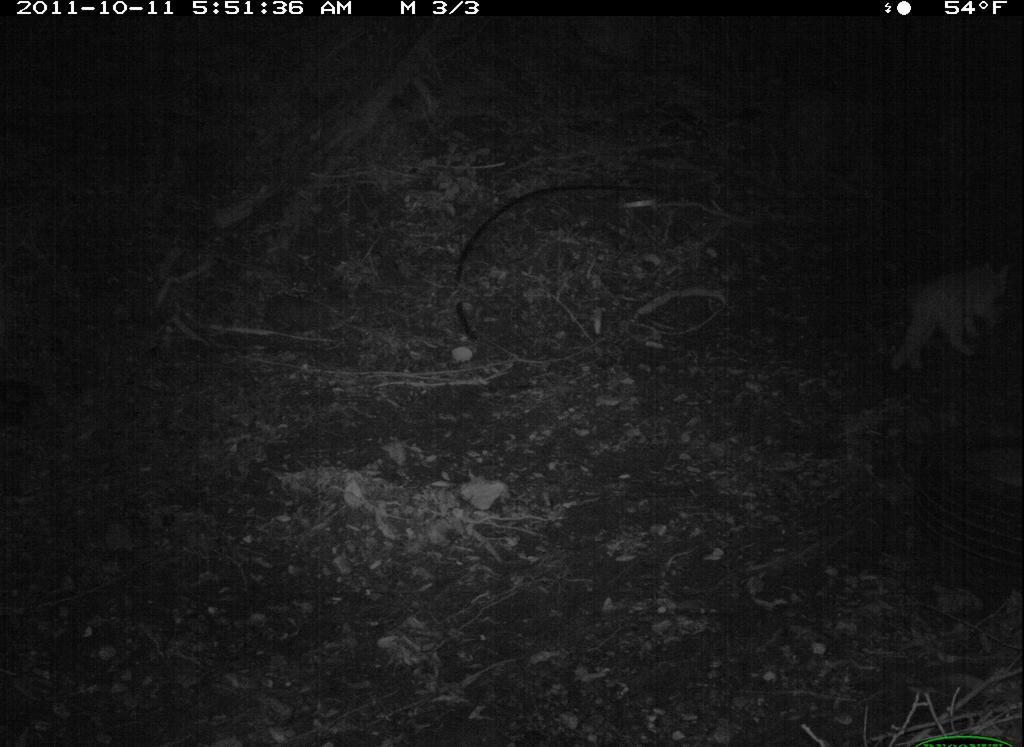cat: (877, 257, 1016, 381)
